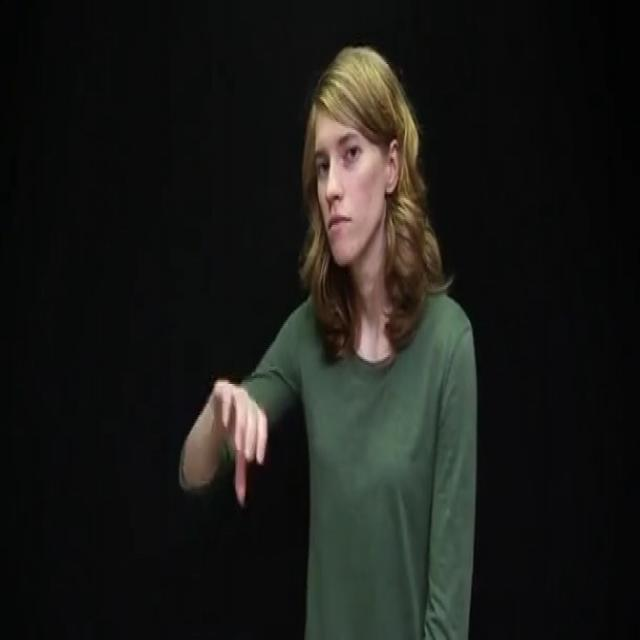pepper: (202, 370, 272, 508)
